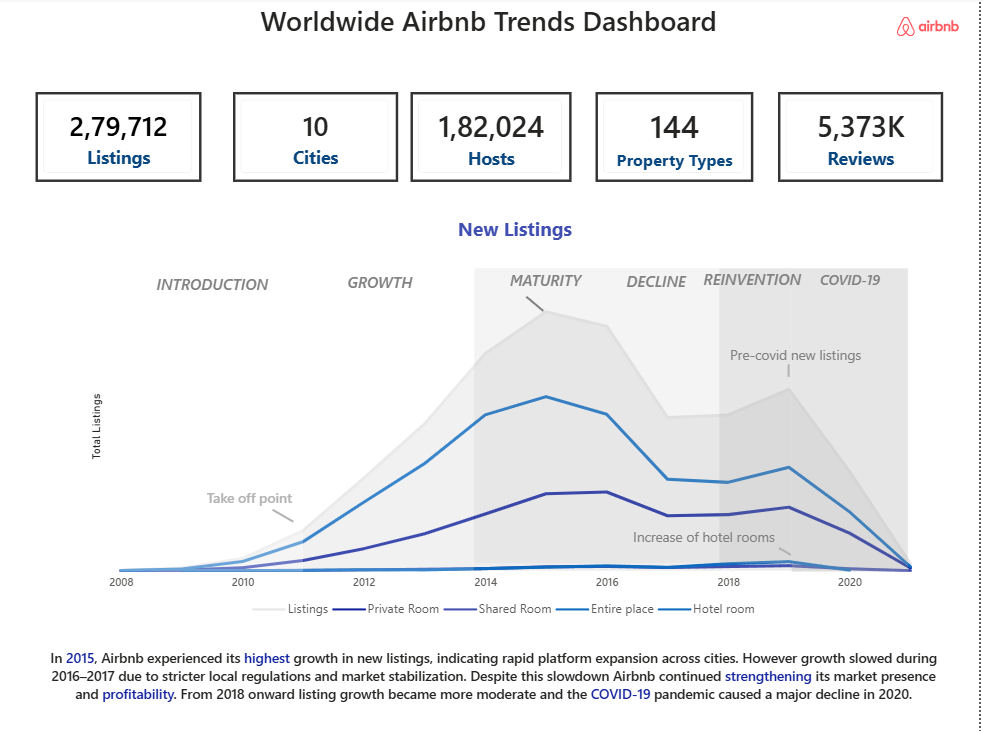

What the dashboard file says about the page in this screenshot:
{"tool":"powerbi","page":{"name":"Overview ","canvas":[960,720],"ordinal":0},"visuals":[{"type":"textbox","box":[244.6,0,470.8,75.8],"z":0},{"type":"image","box":[879.2,0,61.1,57.5],"z":1000},{"type":"cardVisual","fields":{"Data":["CountNonNull(Listings.listing_id)"]},"box":[37.2,92.7,162.6,88],"z":2000},{"type":"cardVisual","fields":{"Data":["Count(Listings.city)"]},"box":[229.9,92.9,161.4,88],"z":3000},{"type":"cardVisual","fields":{"Data":["Count(Listings.host_id)"]},"box":[404,92.7,157.7,88],"z":4000},{"type":"cardVisual","fields":{"Data":["Count(Listings.property_type)"]},"box":[584.5,92.9,154.1,88],"z":5000},{"type":"cardVisual","fields":{"Data":["Count(Reviews.review_id)"]},"box":[763,92.9,161.4,88],"z":6000},{"type":"lineChart","fields":{"Category":["Listings.host_since.Variation.Date Hierarchy.Year"],"Y":["CountNonNull(Listings.listing_id)","Listings.Private Room","Listings.Shared Room","Listings.Entire place","Listings.Hotel room"]},"box":[85.6,265.4,824.2,352.2],"z":7000},{"type":"textbox","box":[426.8,209.1,157.7,56.3],"z":8000},{"type":"shape","box":[118.6,265.4,179.8,297.1],"z":9000},{"type":"shape","box":[298.4,265.4,167.5,297.1],"z":10000},{"type":"shape","box":[465.9,265.4,138.2,288.6],"z":11000},{"type":"shape","box":[604.1,265.4,101.5,288.6],"z":12000},{"type":"shape","box":[705.6,265.4,70.9,288.6],"z":13000},{"type":"shape","box":[776.5,265.4,113.7,297.1],"z":14000},{"type":"textbox","box":[121.1,265.4,177.3,39.1],"z":15000},{"type":"textbox","box":[249.5,264.1,248.2,36.7],"z":16000},{"type":"textbox","box":[440.2,261.7,190.8,47.7],"z":17000},{"type":"textbox","box":[497.7,262.9,292.3,79.5],"z":18000},{"type":"textbox","box":[576,260.5,324.1,47.7],"z":19000},{"type":"textbox","box":[738.6,262.9,189.5,46.5],"z":20000},{"type":"shape","box":[267.8,494,22,26.9],"z":21000},{"type":"textbox","box":[199.3,475.7,119.8,37.9],"z":22000},{"type":"shape","box":[763,530.7,13.5,23.2],"z":23000},{"type":"textbox","box":[616.3,513.6,198.1,34.2],"z":24000},{"type":"shape","box":[721.5,359.5,103.9,12.2],"z":25000},{"type":"textbox","box":[681.1,336.3,198.1,72.1],"z":26000},{"type":"shape","box":[514.8,292.3,20.8,15.9],"z":27000},{"type":"textbox","box":[41.6,632.2,886.6,88],"z":28000}]}

Visuals, with their boxes in screenshot pixels (x1, y1, x2, y2), scaled from the page's 960x720 canvas onto the 983x731 screenshot:
textbox: 250/0/733/77
image: 900/0/963/58
cardVisual - CountNonNull(Listings.listing_id): 38/94/205/183
cardVisual - Count(Listings.city): 235/94/401/184
cardVisual - Count(Listings.host_id): 414/94/575/183
cardVisual - Count(Listings.property_type): 599/94/756/184
cardVisual - Count(Reviews.review_id): 781/94/947/184
lineChart - Listings.host_since.Variation.Date Hierarchy.Year x CountNonNull(Listings.listing_id): 88/269/932/627
textbox: 437/212/599/269
shape: 121/269/306/571
shape: 306/269/477/571
shape: 477/269/619/562
shape: 619/269/723/562
shape: 723/269/795/562
shape: 795/269/912/571
textbox: 124/269/306/309
textbox: 255/268/510/305
textbox: 451/266/646/314
textbox: 510/267/809/348
textbox: 590/264/922/313
textbox: 756/267/950/314
shape: 274/502/297/529
textbox: 204/483/327/521
shape: 781/539/795/562
textbox: 631/521/834/556
shape: 739/365/845/377
textbox: 697/341/900/415
shape: 527/297/548/313
textbox: 43/642/950/730
